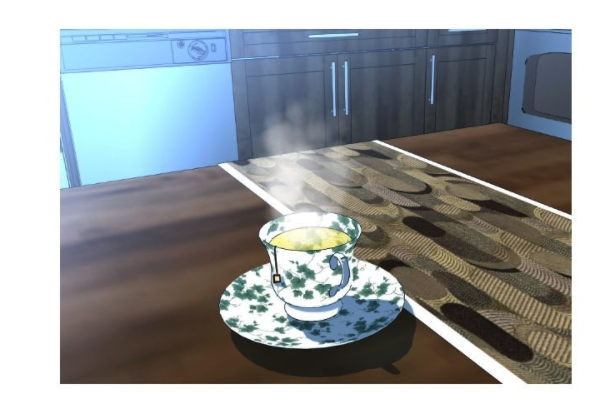cup: (256, 204, 367, 323)
